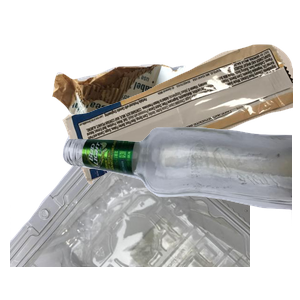cardboard: (50, 62, 228, 226)
glass: (60, 124, 300, 300)
plastic: (10, 120, 250, 300)
trash: (60, 42, 300, 219)
